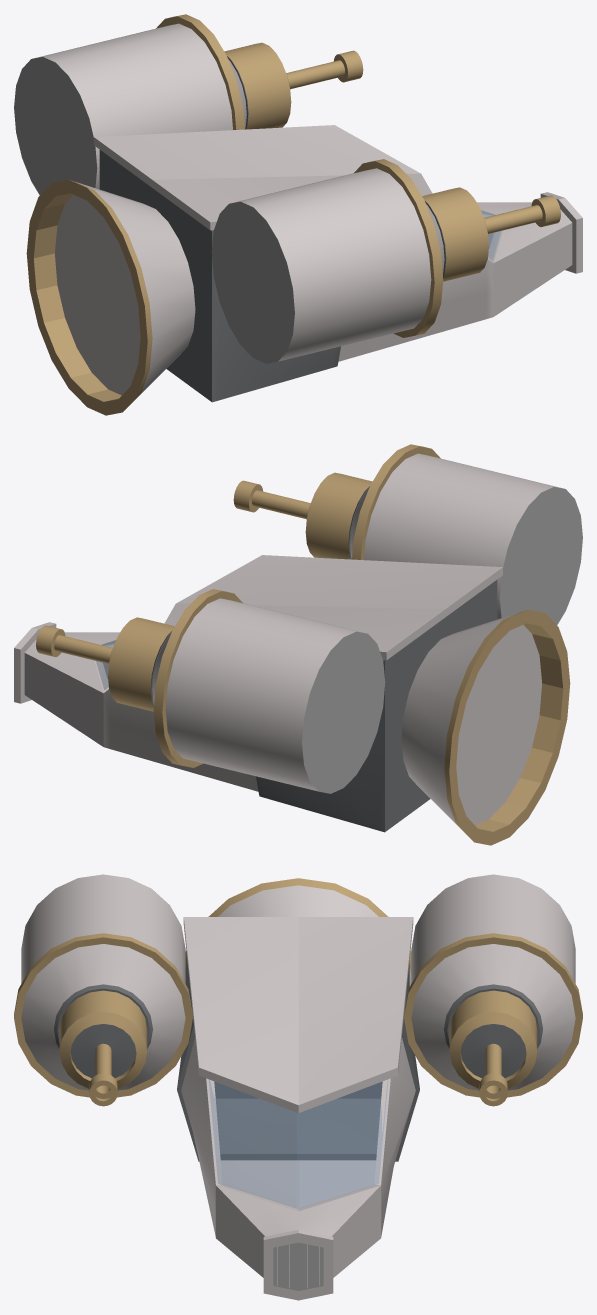
Rendered from Spaceship.fbx.
3 renders of one model, top to bottom at view 1: azimuth 30°, elevation 25°; view 2: azimuth 150°, elevation 25°; view 3: azimuth 270°, elevation 25°, orthographic.
Visible parts, largest first — view 1: Spaceship; view 2: Spaceship; view 3: Spaceship.
Boxes of the visible parts, <box> form: Spaceship: <box>14,14,582,415</box>; Spaceship: <box>14,444,582,845</box>; Spaceship: <box>14,874,582,1300</box>.
Bounding box in the file's own units: 19.28 × 10.13 × 20.16.
